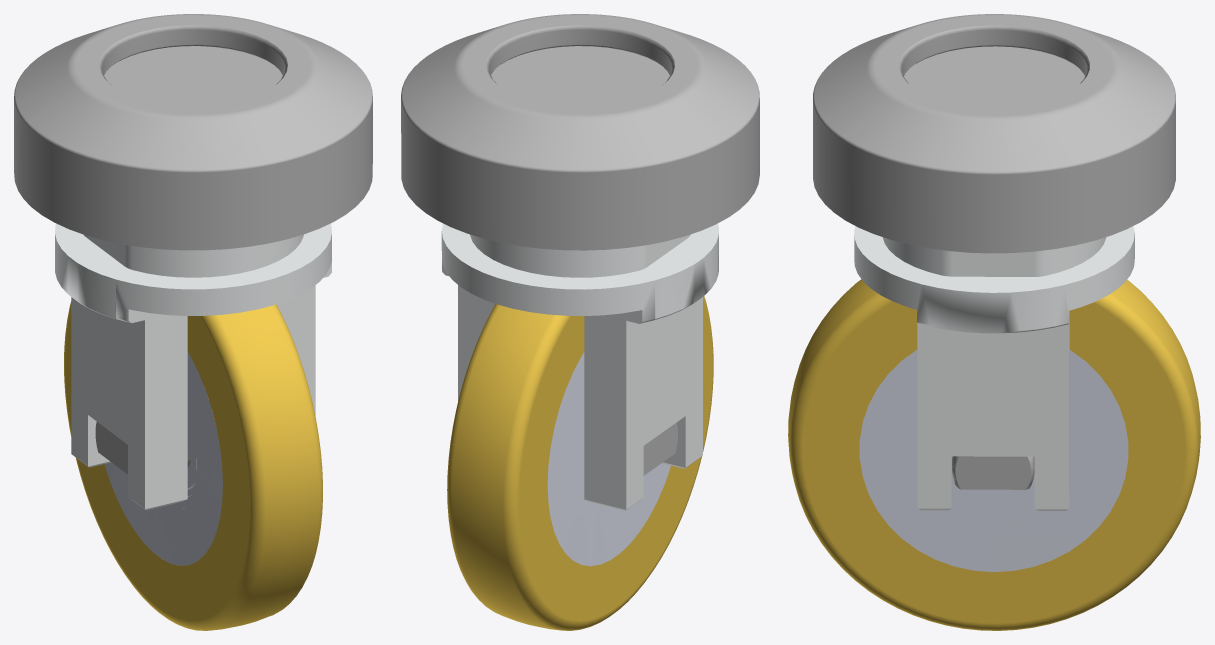
File: LeftLeg_LXC_Light_FrontWheels.fbx
The picture shows the model from 3 angles, left to right: view 1: azimuth 30°, elevation 25°; view 2: azimuth 150°, elevation 25°; view 3: azimuth 270°, elevation 25°; orthographic projection.
Visible parts, largest first — view 1: LeftLegFrontWheel; view 2: LeftLegFrontWheel; view 3: LeftLegFrontWheel.
Part boxes in pixels (x1,y1,x2,y2): LeftLegFrontWheel: [14, 14, 372, 630]; LeftLegFrontWheel: [401, 14, 759, 630]; LeftLegFrontWheel: [788, 14, 1200, 630].
Bounding box in the file's own units: 11 × 18.5 × 12.5.
